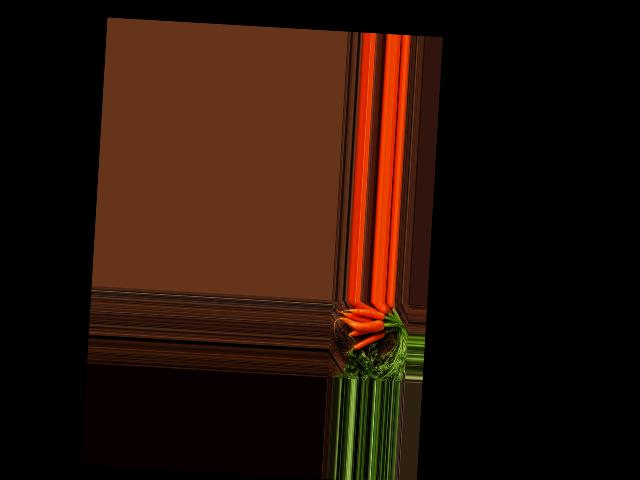carrot: (371, 301, 393, 318)
